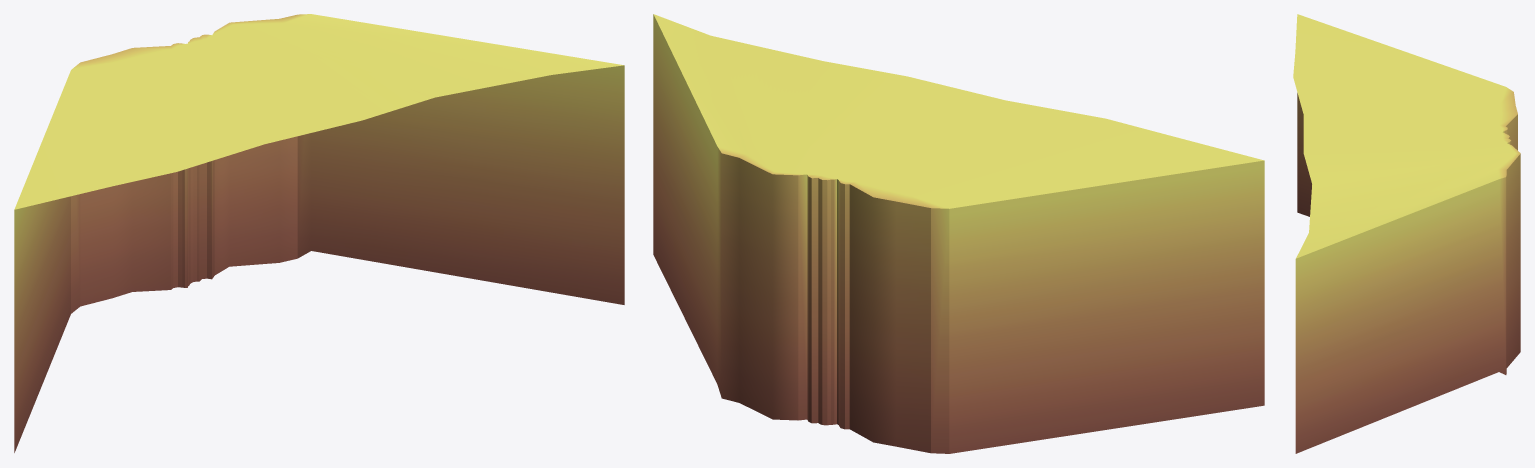
Rendered from Ground_Center.fbx.
3 views of the same model, side by side, from view 1: azimuth 30°, elevation 25°; view 2: azimuth 150°, elevation 25°; view 3: azimuth 270°, elevation 25° (orthographic). The views are drawn at different scales.
Parts seen in each view (by area): view 1: ground; view 2: ground; view 3: ground.
Boxes of the visible parts, left/top/right/bottom form: ground: left=14, top=14, right=624, bottom=452; ground: left=653, top=14, right=1264, bottom=453; ground: left=1293, top=14, right=1520, bottom=453.
Size of the model in its own units: 1172 by 453 by 466.
Materials: 1 (1 with a texture image).
